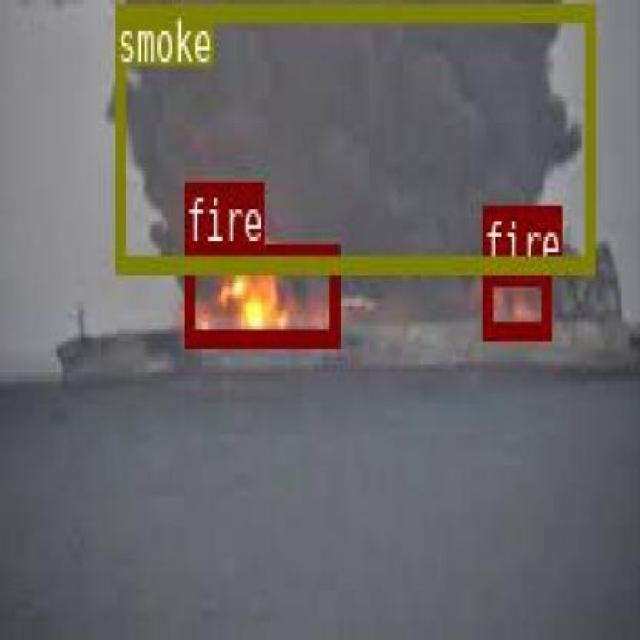Fire: (184, 242, 338, 342), (482, 266, 548, 334)
Smoke: (114, 3, 594, 268)
